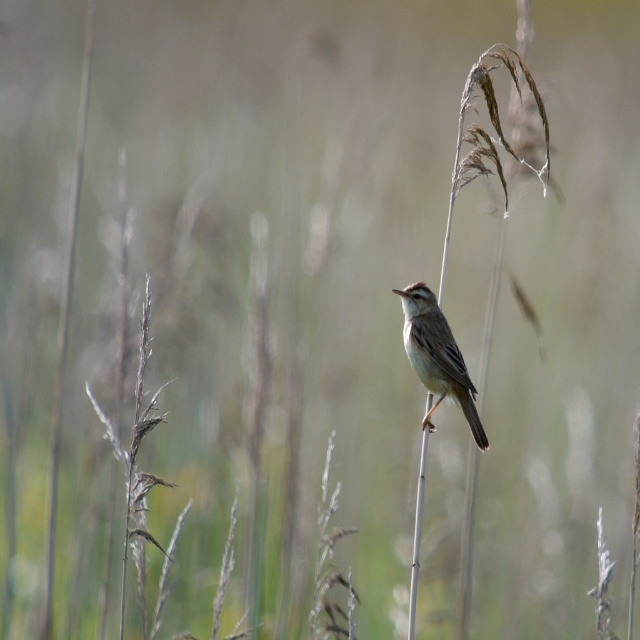Sparrow: (390, 281, 491, 449)
